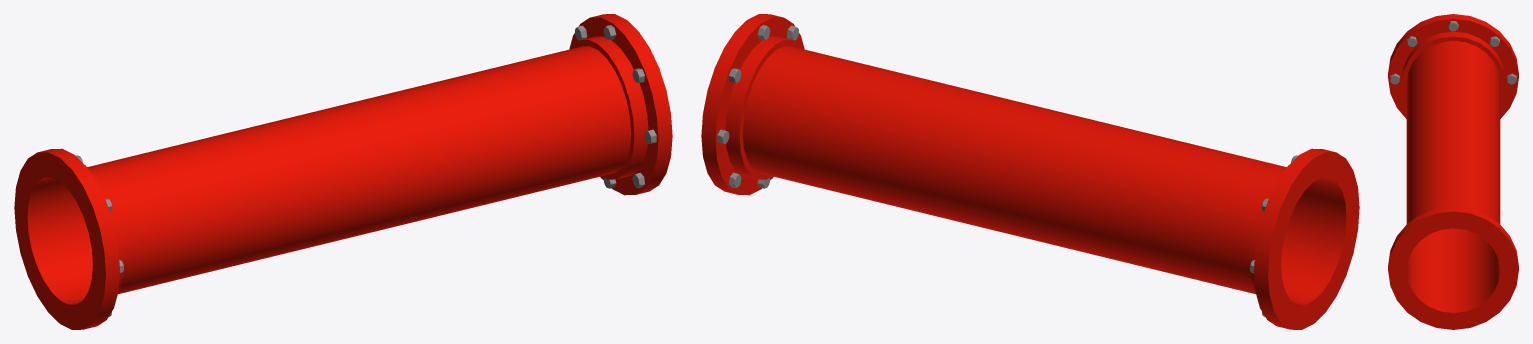
File: Pipe_200_Straight_2m.fbx
3 renders of one model, left to right at view 1: azimuth 30°, elevation 25°; view 2: azimuth 150°, elevation 25°; view 3: azimuth 270°, elevation 25°, orthographic. The views are drawn at different scales.
Visible parts, largest first — view 1: Pipe_200_Straight_2m; view 2: Pipe_200_Straight_2m; view 3: Pipe_200_Straight_2m.
Boxes of the visible parts, left/top/right/bottom form: Pipe_200_Straight_2m: left=14, top=14, right=672, bottom=329; Pipe_200_Straight_2m: left=701, top=14, right=1359, bottom=329; Pipe_200_Straight_2m: left=1388, top=14, right=1518, bottom=329.
Size of the model in its own units: 1 by 0.28 by 0.28.
